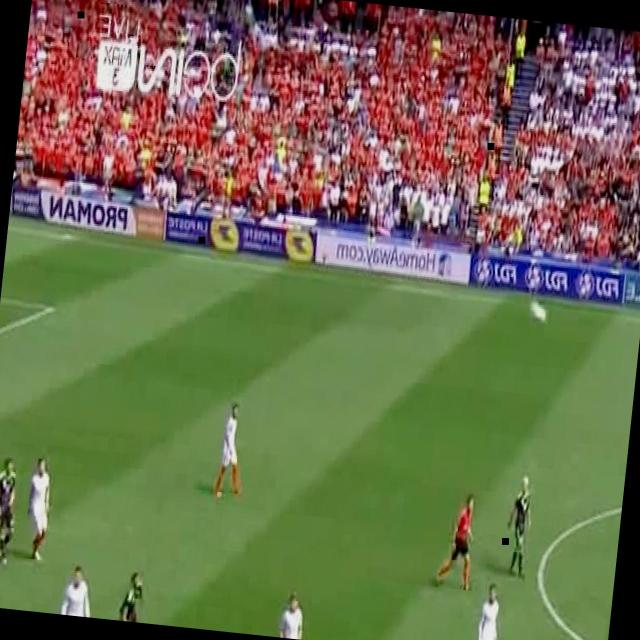ball: (528, 300, 548, 324)
player-white: (434, 492, 480, 591), (22, 458, 57, 562), (502, 475, 536, 579), (214, 403, 250, 501), (60, 562, 104, 618), (0, 458, 21, 568), (116, 568, 152, 624), (476, 581, 506, 640), (278, 589, 312, 640)
